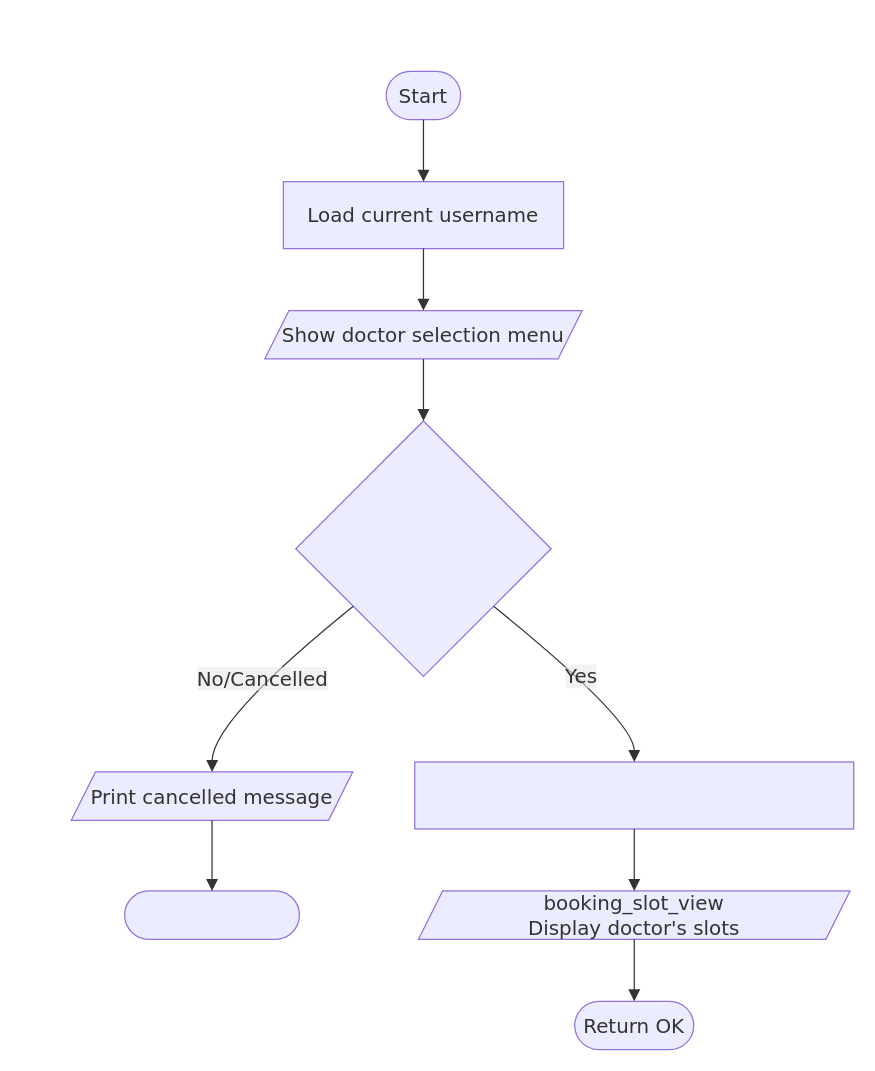
Some shapes in this 875 by 1071 pixel diagram are drawn without their labels. Each missing label, with the centre of its shape:
Doctor selected?: [422,548]
parse_slots Load doctor's slots from file: [634,795]
Return EOF/EOT: [211,914]
